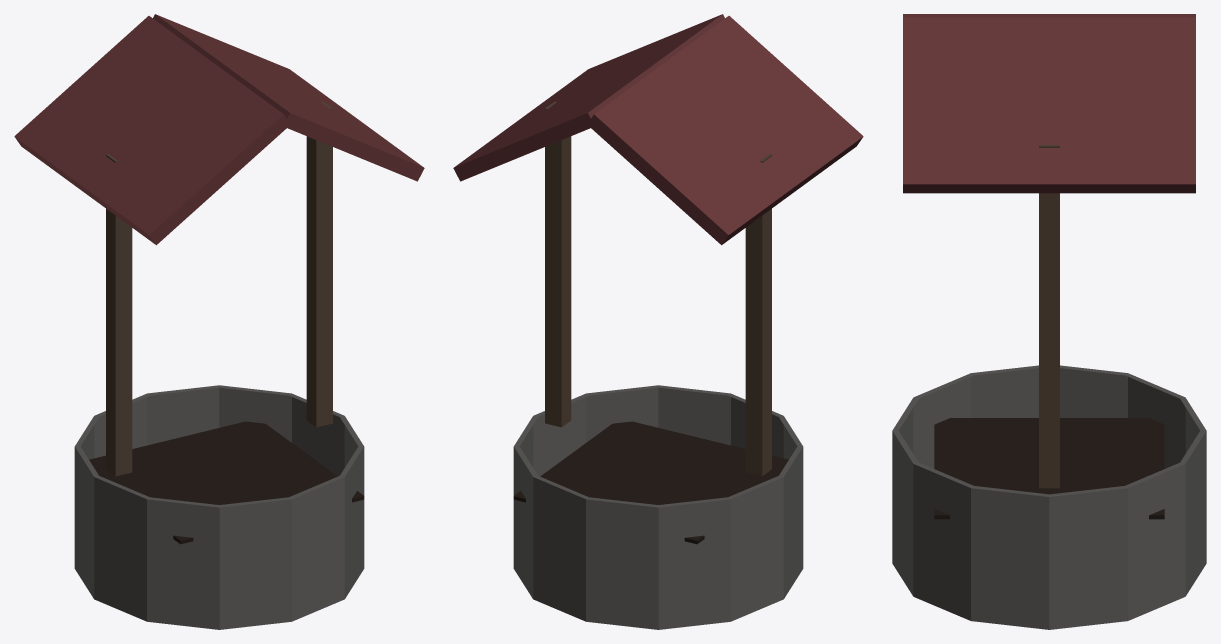
File: well.glb
3 views of the same model, side by side, from view 1: azimuth 30°, elevation 25°; view 2: azimuth 150°, elevation 25°; view 3: azimuth 270°, elevation 25° (orthographic). The views are drawn at different scales.
Parts seen in each view (by area): view 1: well; view 2: well; view 3: well.
Boxes of the visible parts, box(x1,y1,x2,y2) form: well: box(14, 14, 424, 629); well: box(453, 14, 863, 629); well: box(892, 14, 1206, 629).
Bounding box in the file's own units: 1.65 × 2.89 × 1.5.
Materials: 1 (1 with a texture image).
